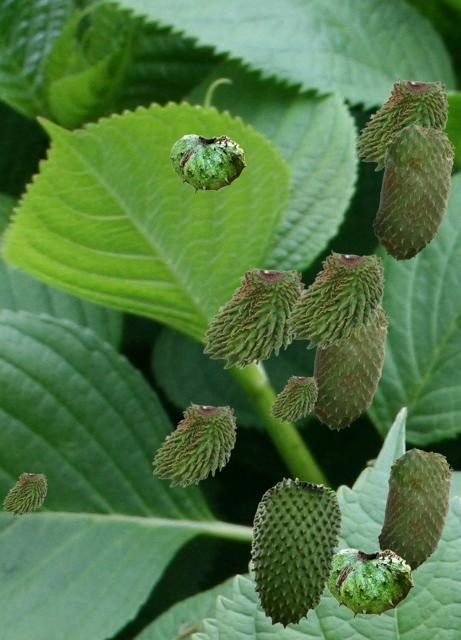guyabano: (250, 477, 341, 628), (372, 123, 454, 261), (201, 264, 305, 368), (285, 249, 384, 348), (313, 303, 388, 430), (377, 447, 452, 571), (354, 76, 448, 170), (151, 401, 236, 486), (326, 548, 413, 618), (169, 134, 245, 193), (269, 374, 317, 422), (2, 471, 46, 515)
